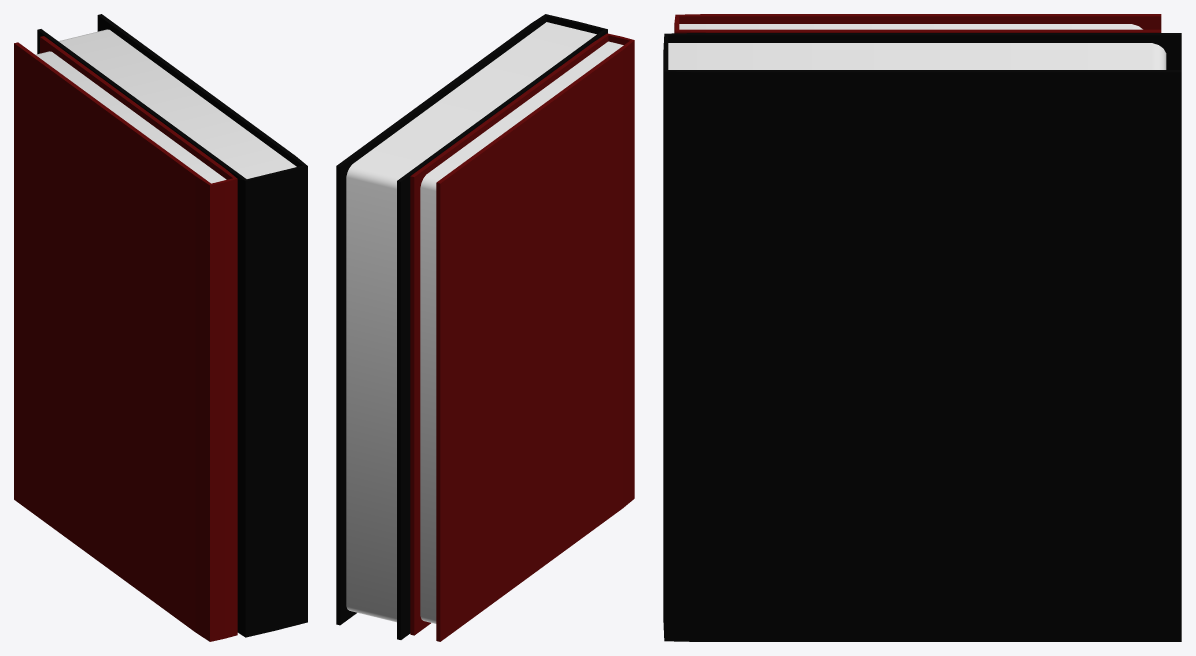
File: books.FBX
The picture shows the model from 3 angles, left to right: view 1: azimuth 30°, elevation 25°; view 2: azimuth 150°, elevation 25°; view 3: azimuth 270°, elevation 25°; orthographic projection. The views are drawn at different scales.
Visible parts, largest first — view 1: books; view 2: books; view 3: books.
Part boxes in pixels (<box>): books: <box>14,14,307,641</box>; books: <box>336,14,634,641</box>; books: <box>663,14,1181,641</box>.
Bounding box in the file's own units: 47.78 × 180 × 218.
